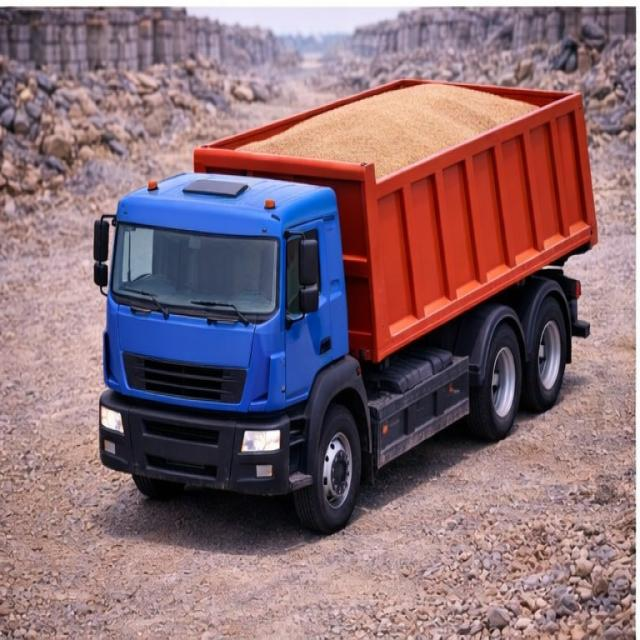trailer: (196, 74, 589, 176)
truck: (88, 49, 606, 506)
